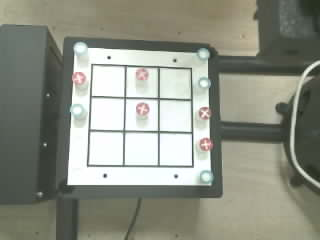blue circle: (73, 42, 87, 55), (200, 170, 213, 183), (197, 48, 210, 60), (198, 77, 211, 88), (74, 107, 81, 113)
board: (67, 47, 212, 186)
cells: (89, 132, 123, 165), (125, 133, 157, 165), (125, 99, 157, 130), (91, 98, 123, 129), (160, 134, 191, 165), (160, 100, 191, 131), (92, 66, 124, 96), (160, 68, 191, 98), (126, 67, 157, 97)
grid: (87, 64, 193, 167)
red cross: (199, 138, 213, 151), (136, 102, 149, 115), (198, 107, 211, 119), (72, 72, 85, 84), (136, 68, 148, 80)
